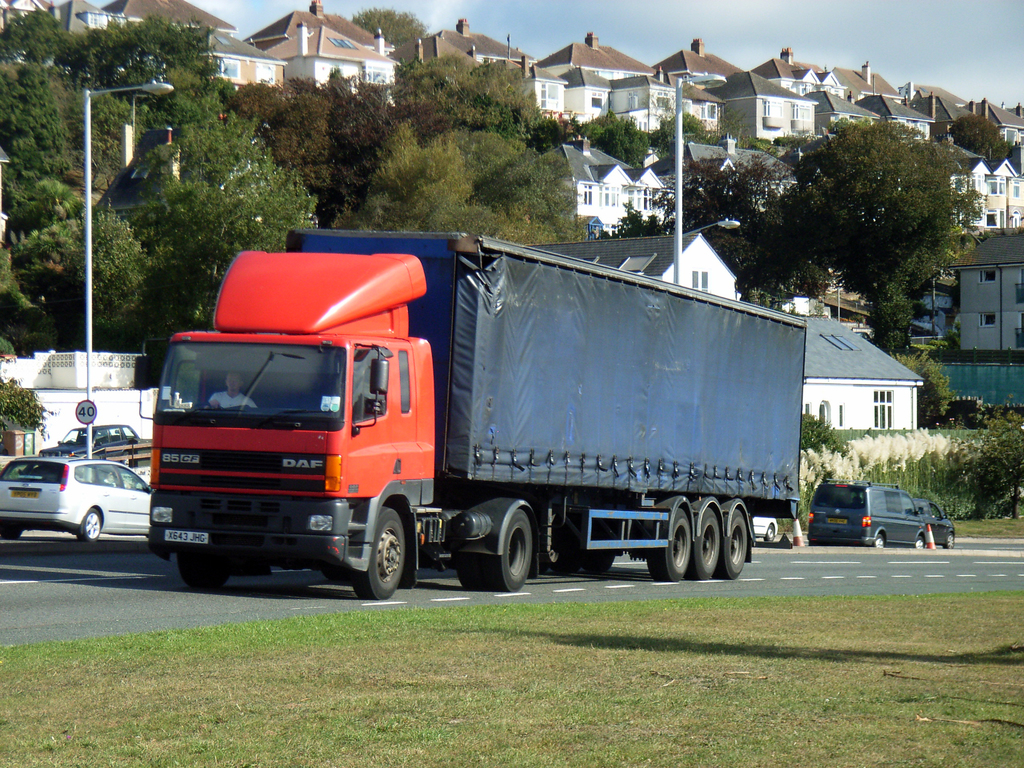car: (1, 434, 181, 554), (793, 465, 945, 561), (910, 484, 973, 548)
truck: (130, 205, 824, 606)
